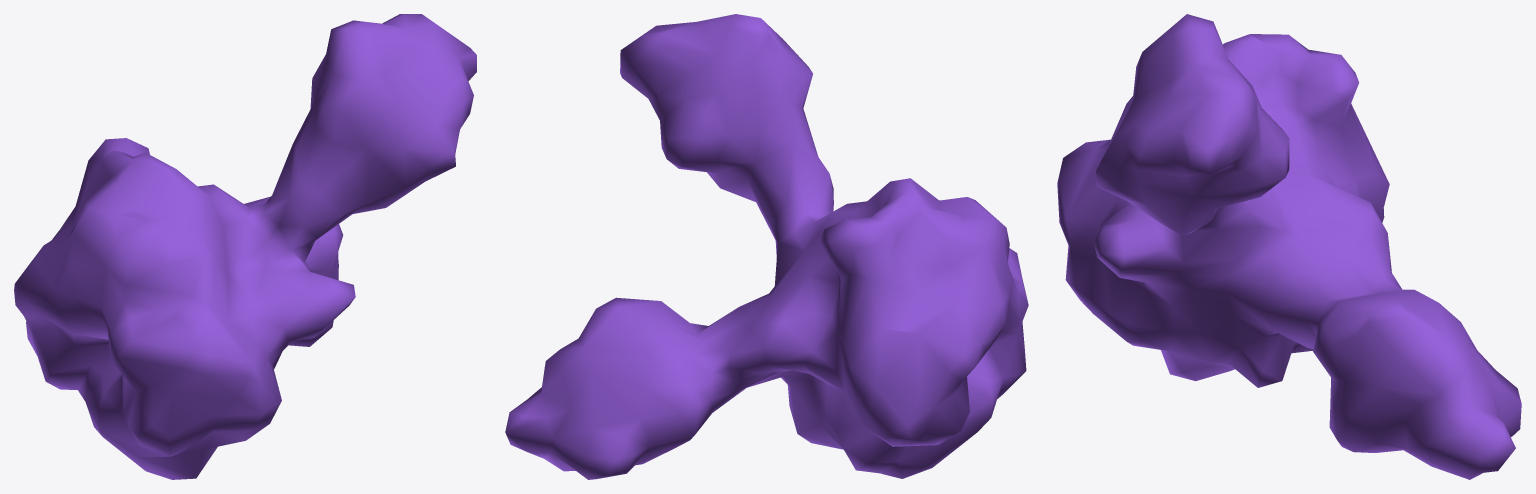
Rendered from Cyt_IN.fbx.
The picture shows the model from 3 angles, left to right: view 1: azimuth 30°, elevation 25°; view 2: azimuth 150°, elevation 25°; view 3: azimuth 270°, elevation 25°; orthographic projection. The views are drawn at different scales.
Visible parts, largest first — view 1: CoarseMS_1ex4; view 2: CoarseMS_1ex4; view 3: CoarseMS_1ex4.
Boxes of the visible parts, bbox=[...] form: CoarseMS_1ex4: bbox=[14, 14, 476, 479]; CoarseMS_1ex4: bbox=[505, 14, 1028, 479]; CoarseMS_1ex4: bbox=[1057, 14, 1521, 479].
Bounding box in the file's own units: 78.38 × 74.64 × 69.97.
